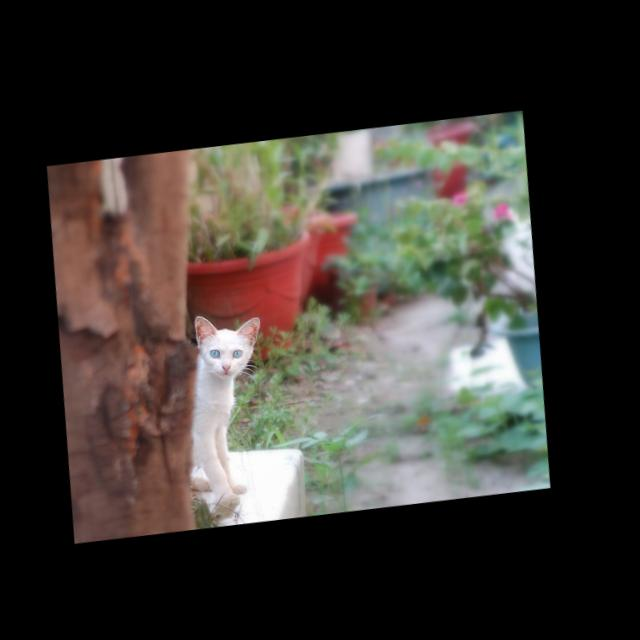animals: (199, 307, 270, 372)
